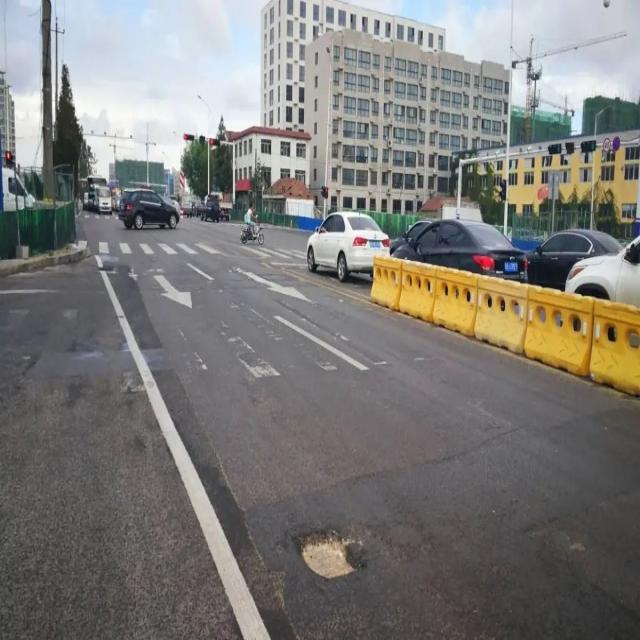Pothole: (300, 530, 358, 582), (94, 264, 121, 278)
